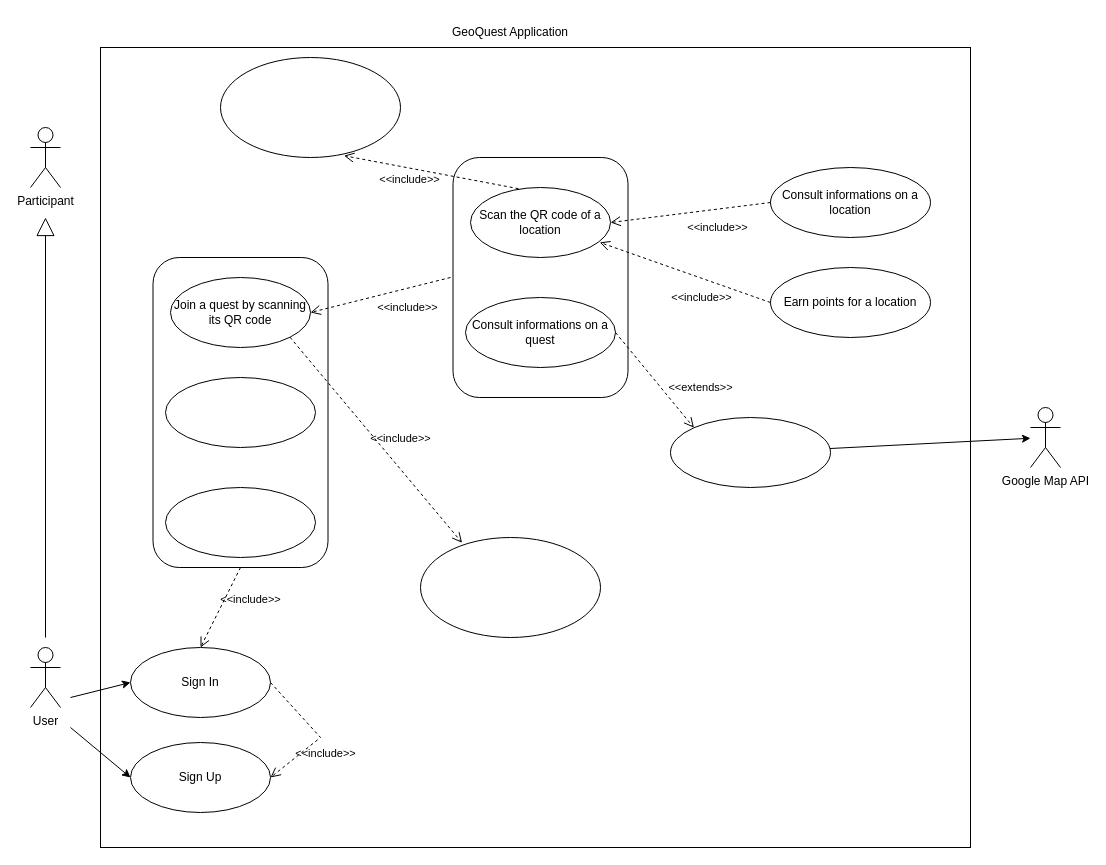
This 1106x865 diagram has some shape labels left out. Here are the shapes that lost their labels. From the top down, the box of each, then its label:
(220, 56, 400, 158): Verification that the location exists is part of the currently running quest
(164, 376, 316, 448): Consult his quests history
(670, 416, 830, 488): Visualize all locations of a quest on a map
(164, 486, 316, 558): Consult the leaderboard
(420, 536, 600, 638): Verification that the quest exists and was not created by this user
